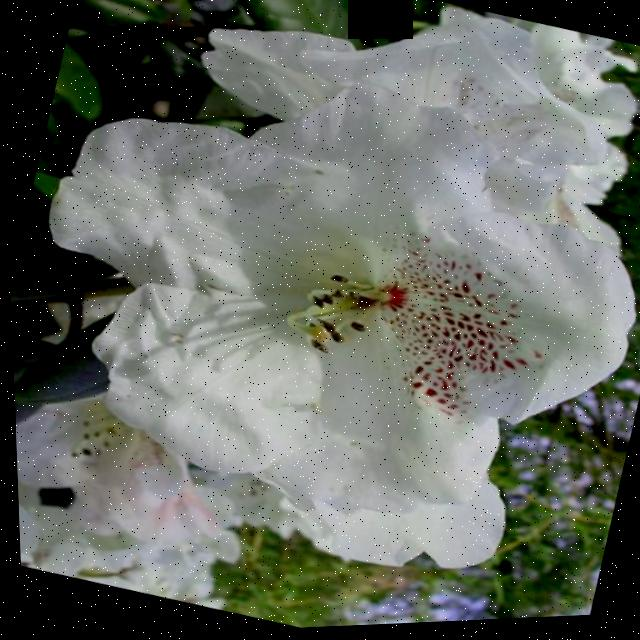azalea: (15, 0, 640, 607)
